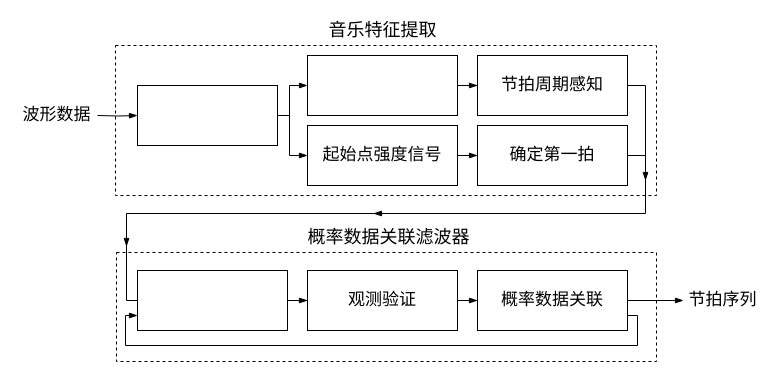
Some shapes in this 778 by 379 pixel diagram are drawn without their labels. Each missing label, with the centre of its shape:
"卡尔曼滤波" belongs at point 212,300.
"短时傅里叶变换" belongs at point 207,115.
"频谱通量" belongs at point 382,85.
